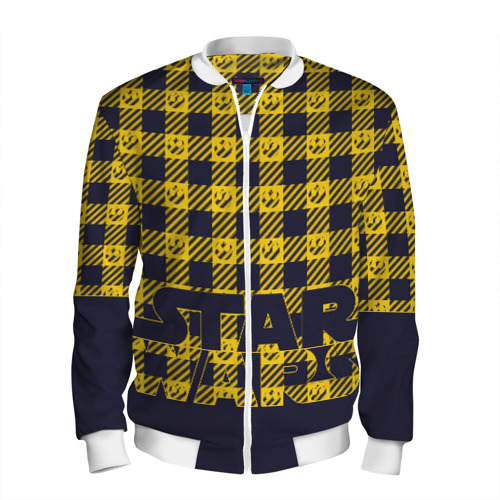squared: (65, 35, 432, 414)
